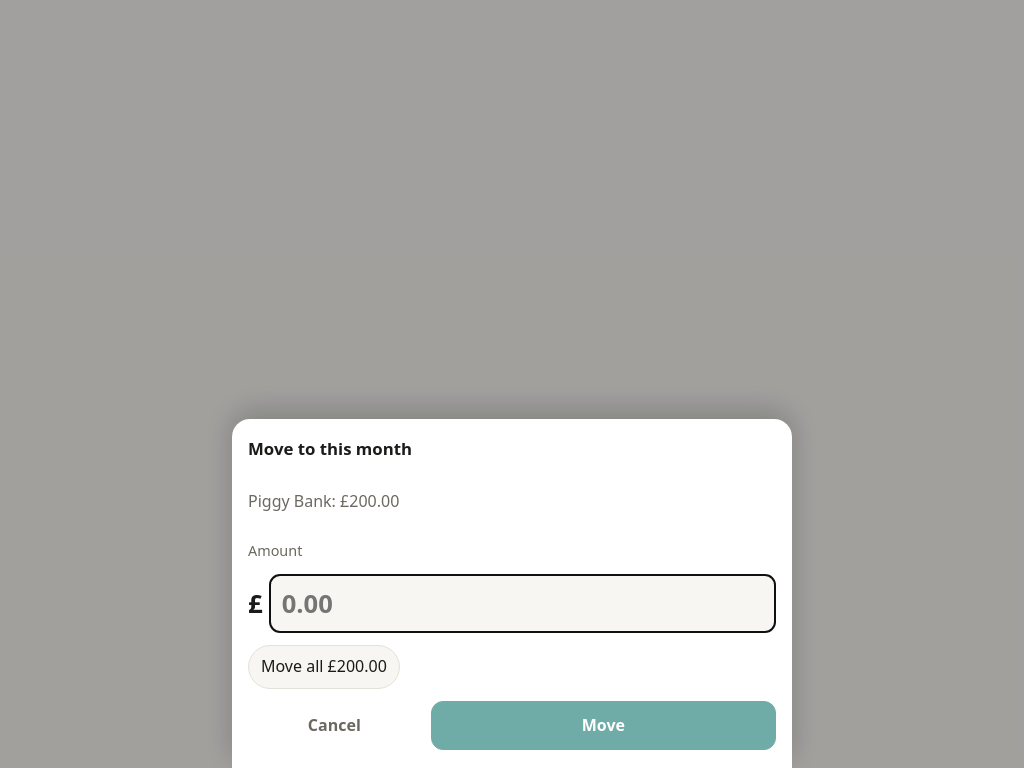
it: Move all fills the whole balance
What coordinates should you click on to do the following:
click the button "Move all £200.00"
I would click on:
 (324, 667)
Its box is 248,645 -> 400,689.
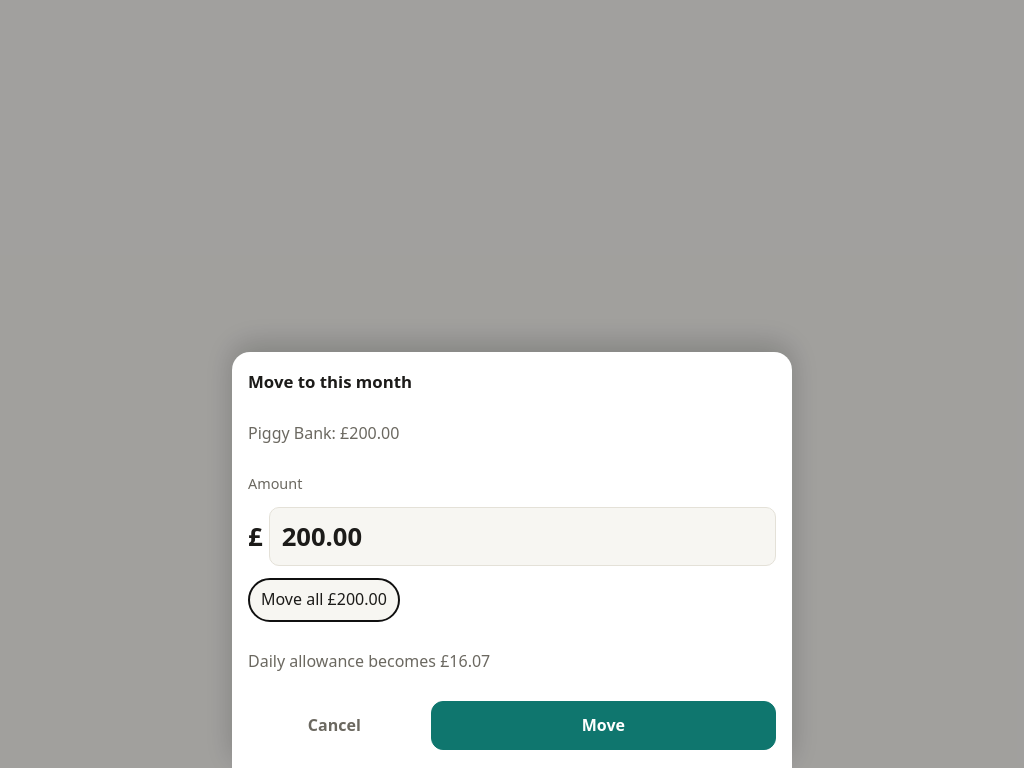
Now the field labelled "Amount" holds "200.00", box 269,506 -> 776,566
Now the text "Daily allowance becomes £16.07" is shown, box 248,650 -> 490,672
Now the button "Move" is enabled, box 431,701 -> 776,750
